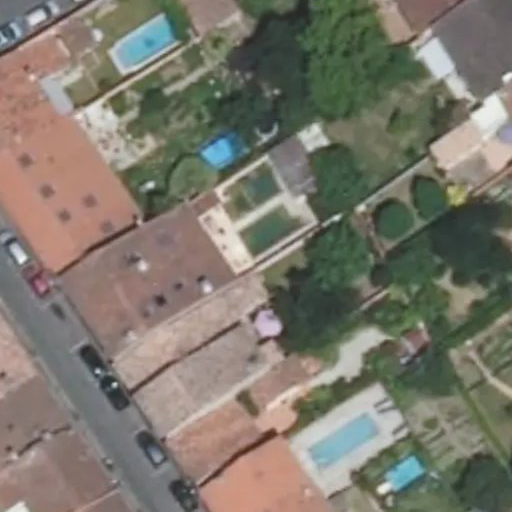pool: (113, 14, 183, 75), (238, 198, 305, 258), (312, 414, 379, 470), (377, 457, 426, 494), (202, 129, 247, 168)
